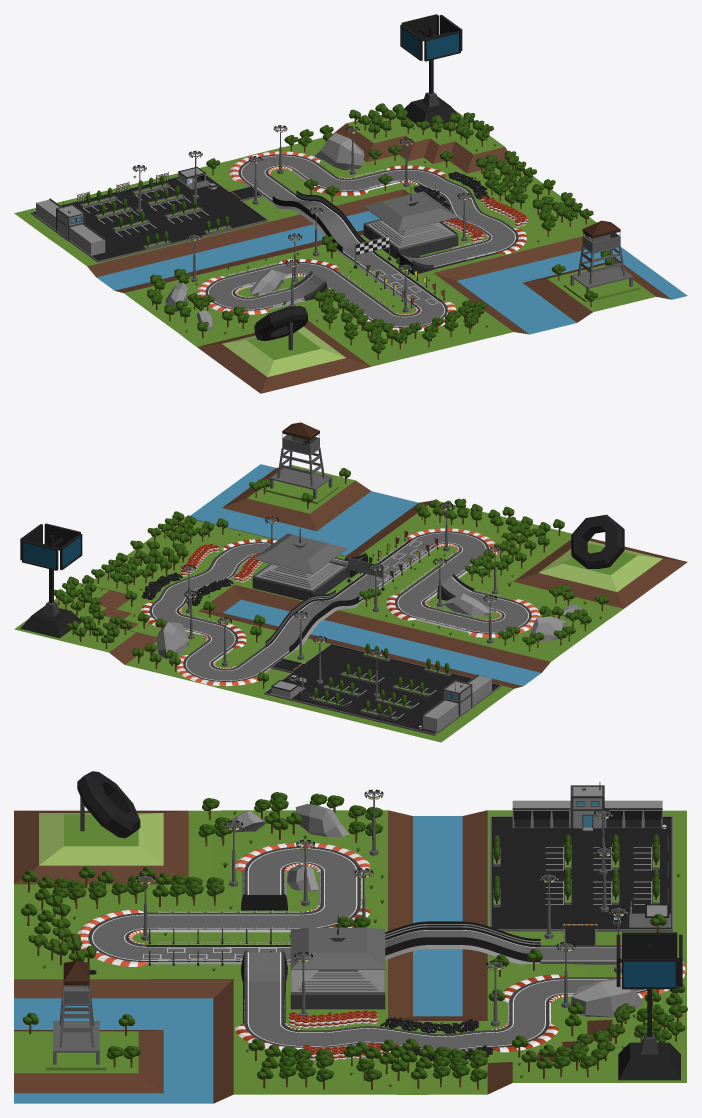
The model's file is track comple.fbx.
3 renders of one model, top to bottom at view 1: azimuth 30°, elevation 25°; view 2: azimuth 150°, elevation 25°; view 3: azimuth 270°, elevation 25°, orthographic. The views are drawn at different scales.
Parts seen in each view (by area): view 1: Earth, parking, bridge, tribune, tower.001, tower, garages, crooked road, road 180.002, road 180.001, springboard, big wheel (+10 smaller); view 2: Earth, parking, bridge, tribune, tower.001, tower, big wheel, garages, crooked road, road 180.002, road 180.001, road 180 (+11 smaller); view 3: Earth, parking, bridge, tribune, tower.001, garages, tower, springboard, road.002, crooked road, road 180.001, road 180 (+13 smaller).
Part boxes in pixels (<box>): Earth: <box>14,109,687,393</box>; parking: <box>31,174,268,262</box>; bridge: <box>243,175,441,307</box>; tribune: <box>363,187,458,259</box>; tower.001: <box>400,14,462,127</box>; tower: <box>570,220,632,292</box>; garages: <box>36,198,105,255</box>; crooked road: <box>417,177,512,234</box>; road 180.002: <box>230,151,320,182</box>; road 180.001: <box>197,276,269,314</box>; springboard: <box>396,242,497,274</box>; big wheel: <box>254,306,307,350</box>; Earth: <box>14,464,687,742</box>; parking: <box>264,643,501,735</box>; bridge: <box>237,540,435,673</box>; tribune: <box>252,528,347,600</box>; tower.001: <box>20,523,82,638</box>; tower: <box>270,422,332,498</box>; big wheel: <box>571,514,624,568</box>; garages: <box>423,674,491,731</box>; crooked road: <box>155,551,250,608</box>; road 180.002: <box>176,654,259,686</box>; road 180.001: <box>467,599,540,637</box>; road 180: <box>407,528,497,557</box>; Earth: <box>14,810,686,1103</box>; parking: <box>489,816,672,945</box>; bridge: <box>146,921,616,964</box>; tribune: <box>290,915,385,1009</box>; tower.001: <box>616,932,682,1080</box>; garages: <box>512,782,662,830</box>; tower: <box>53,960,99,1064</box>; springboard: <box>241,949,287,1023</box>; road.002: <box>147,912,302,932</box>; crooked road: <box>302,1026,491,1050</box>; road 180.001: <box>235,842,370,871</box>; road 180: <box>78,910,146,966</box>.
Size of the model in its own units: 4474 by 1066 by 4481.
